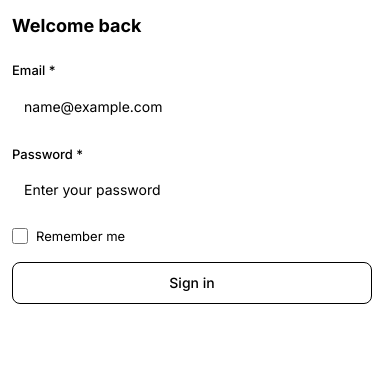
Test case: LoginForm › surfaces an error when sign-in fails
This screenshot has width=389, height=379.
Type "user@example.com" into the field labelled "Email *" at (192, 106), box [12,86,372,126]
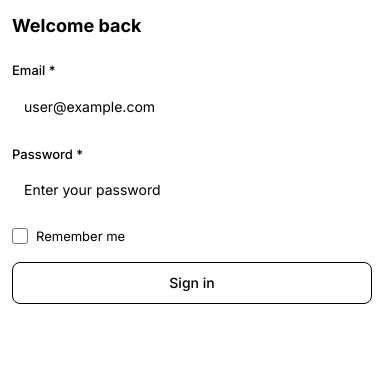
Type "wrongpass" into the password field labelled "Password *" at (192, 190), box [12,170,372,210]
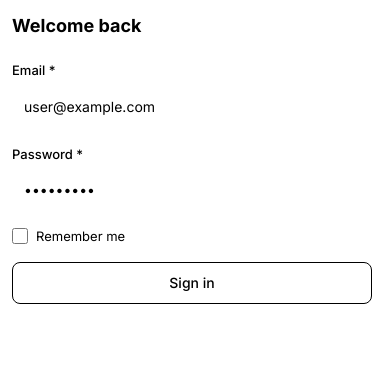
Click the button "Sign in" at (192, 283), box [12,262,372,304]
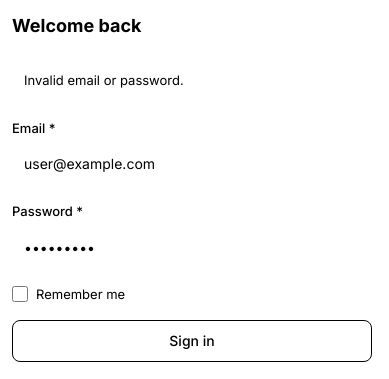
Expected: the text "Invalid email or password." is shown, [24,72,184,88]
